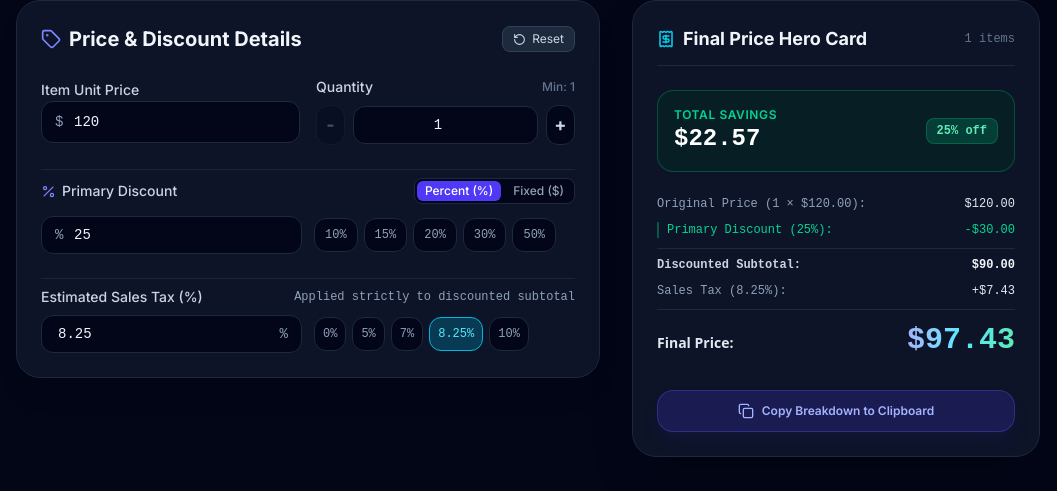
Test case: OmniCalc Acceptance Test Suite (Stories S-1 to S-7) › Story S-2: Quantity Scaling & Reset › resets modified inputs to defaults ($120.00, 25%, 8.25%, qty 1) and shows confirmation toast
This screenshot has width=1057, height=491.
Modify values
Replace the text in the number field labelled "Item Unit Price" with "250" at (170, 122), box left=41, top=101, right=300, bottom=143
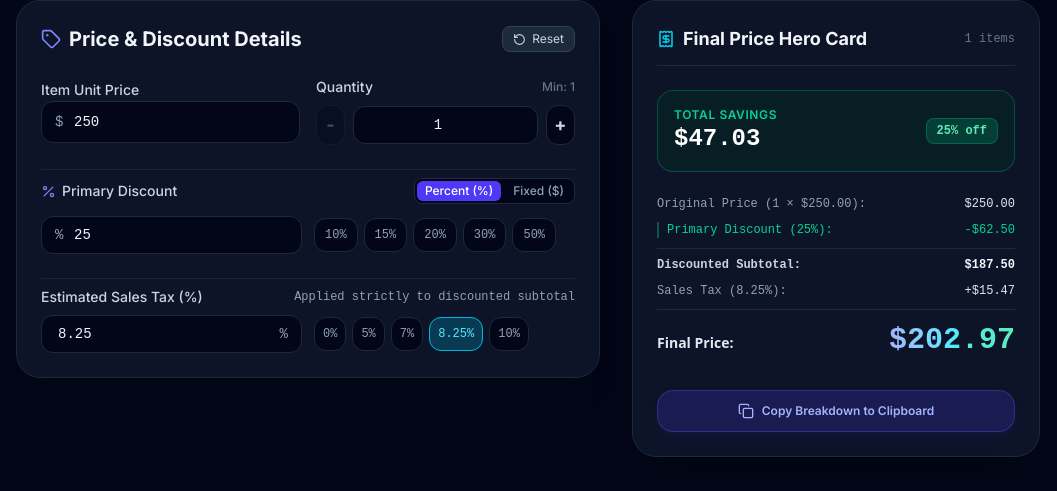
Replace the text in the number field showing "1" below "Quantity" with "3" at (445, 125), box left=353, top=106, right=538, bottom=144
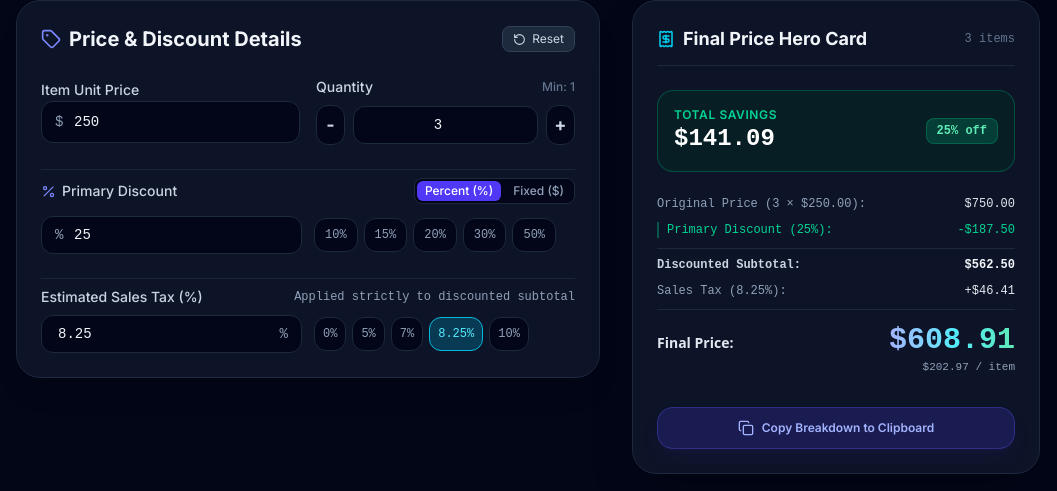
Click Reset
Click the button "Reset" at (539, 39), box left=502, top=26, right=575, bottom=52
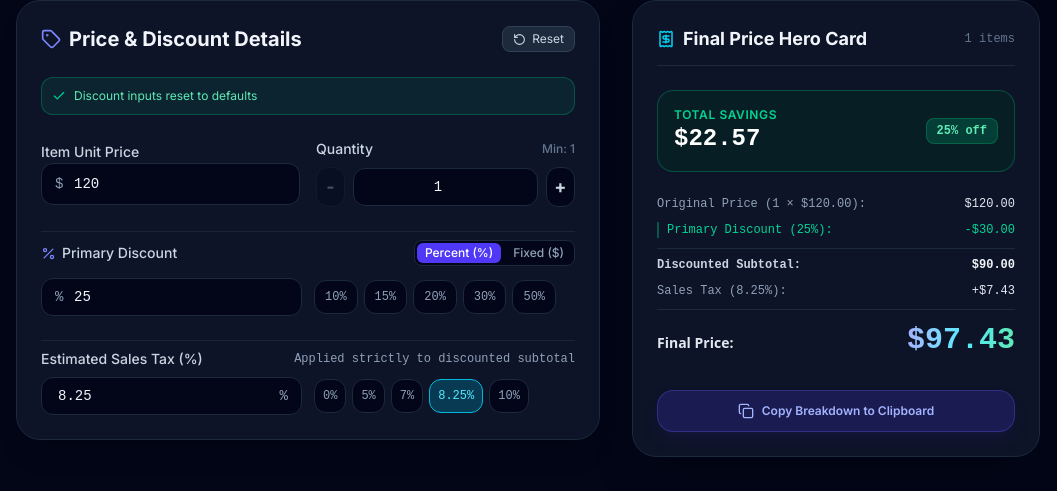
expect the number field labelled "Item Unit Price" holds "120": met, box left=41, top=163, right=300, bottom=205
expect the number field showing "1" below "Quantity" holds "1": met, box left=353, top=168, right=538, bottom=206
expect the text "Discount inputs reset to defaults" is shown: met, box left=74, top=88, right=257, bottom=104
